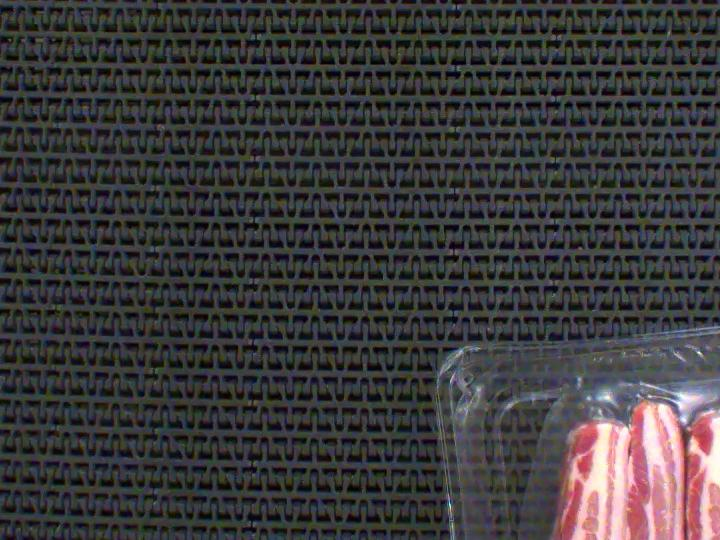unsealed: (477, 312, 720, 524)
